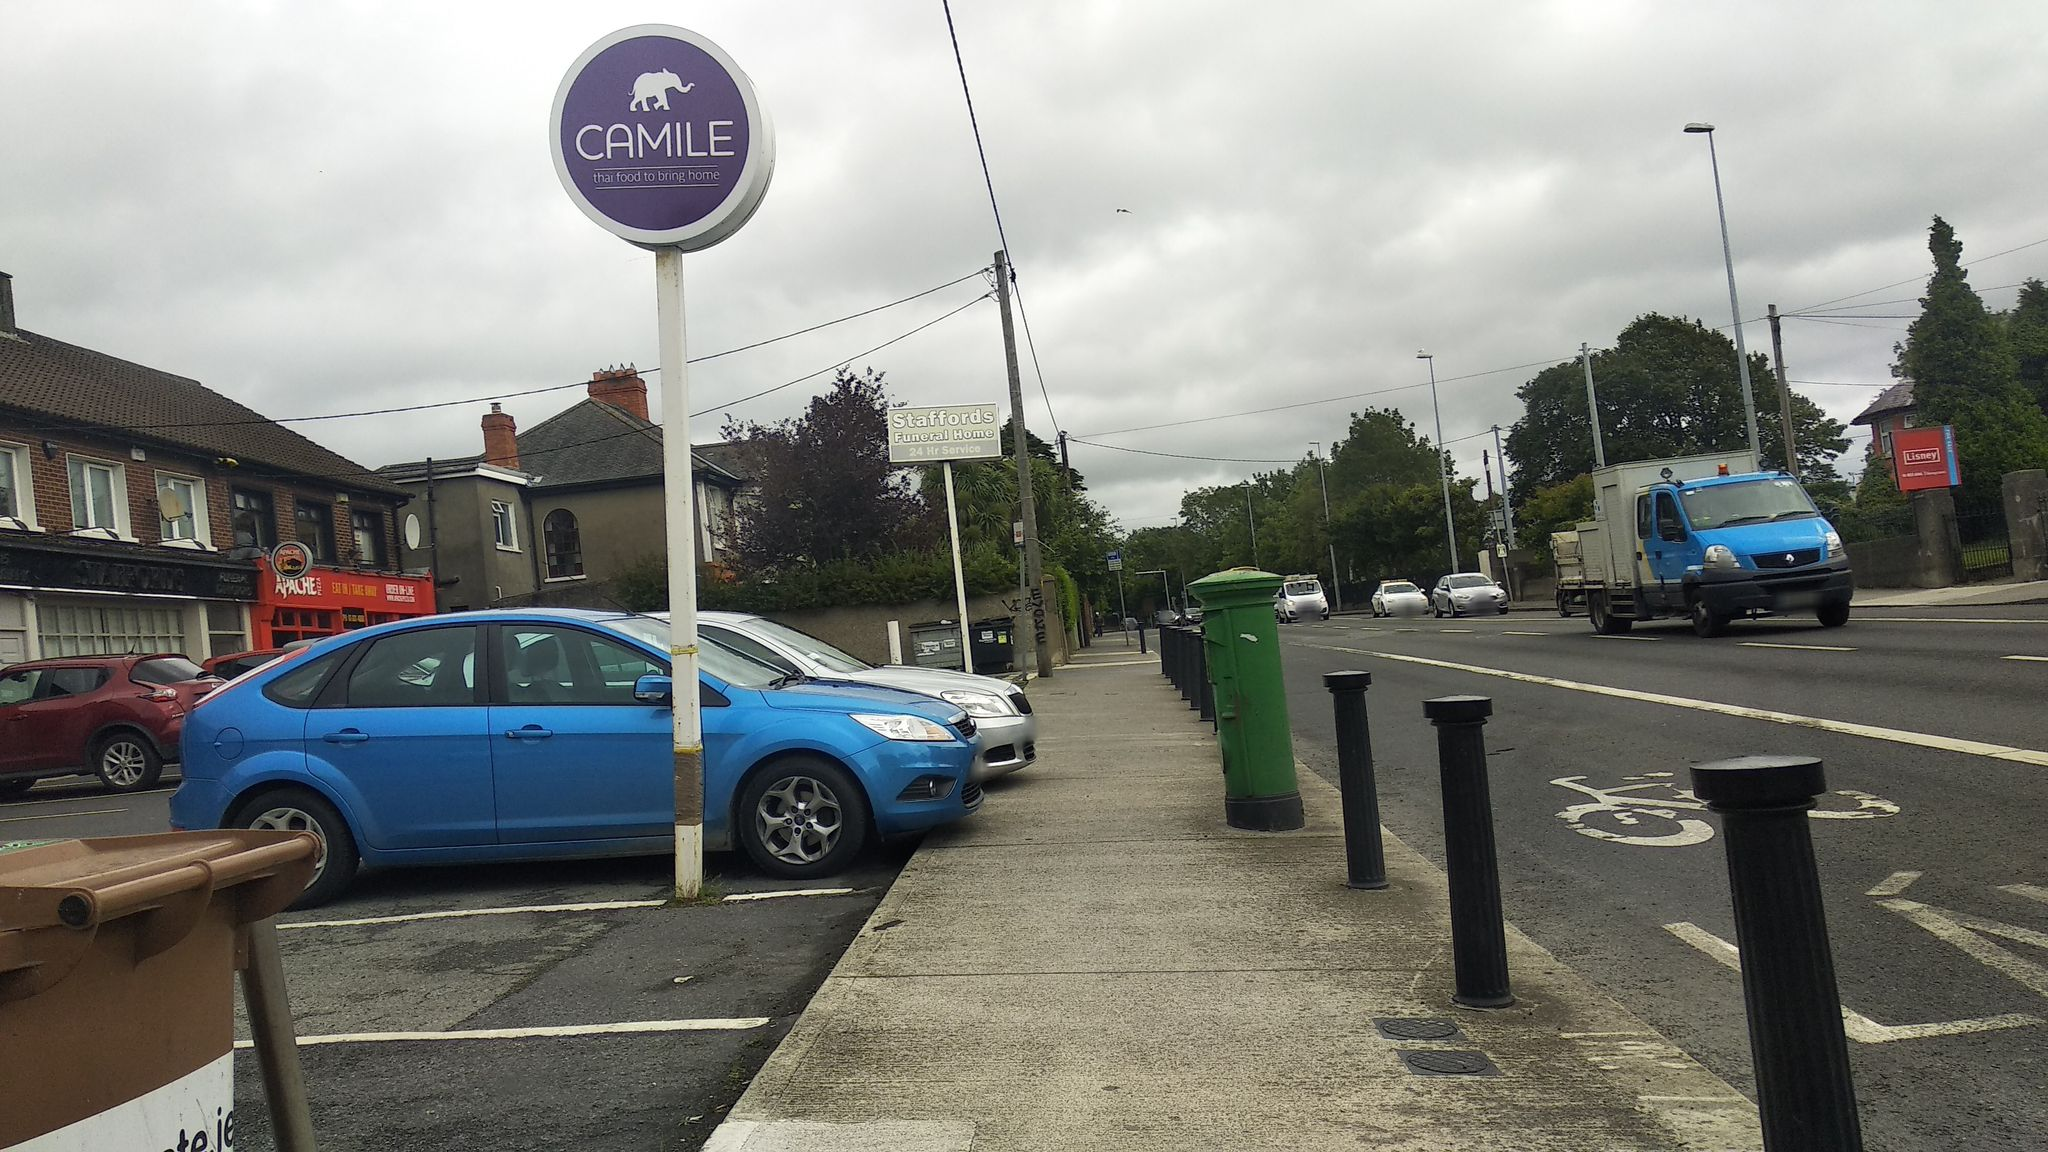property sign: (1883, 415, 1971, 501)
